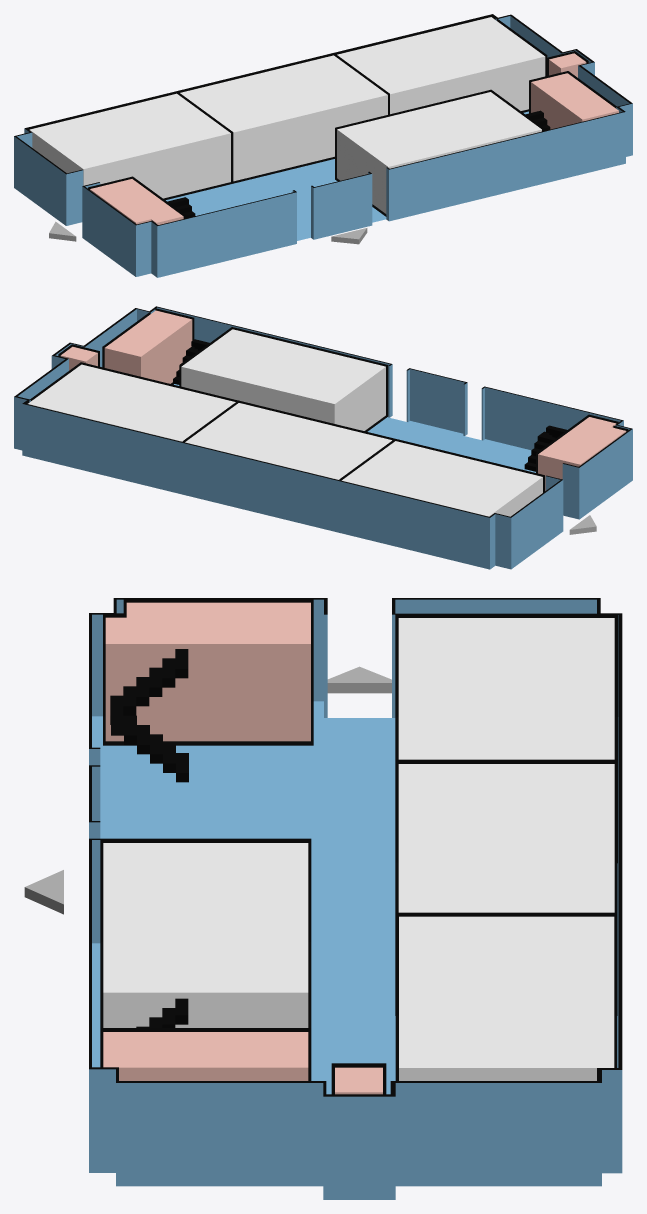
3 renders of one model, top to bottom at view 1: azimuth 30°, elevation 25°; view 2: azimuth 150°, elevation 25°; view 3: azimuth 270°, elevation 25°, orthographic. The views are drawn at different scales.
Parts seen in each view (by area): view 1: object, room_7_1_2, room_7_1_3, room_7_1_1, room_7_1_4, トイレ_7_1_1, トイレ_7_1_2, object_line.002, object_line.001, object_line.004, object_line.003, トイレ_7_1_3 (+1 smaller); view 2: object, room_7_1_4, room_7_1_3, room_7_1_1, room_7_1_2, トイレ_7_1_1, トイレ_7_1_2, object_line.004, object_line.001, object_line.002, object_line.003, 階段_7_1_1 (+2 smaller); view 3: object, room_7_1_4, room_7_1_1, room_7_1_2, room_7_1_3, トイレ_7_1_2, トイレ_7_1_1, 階段_7_1_1, object_line.006, object_line.004, object_line.002, object_line.003 (+5 smaller).
Part boxes in pixels (x1,y1,x2,y2): object: [14, 14, 632, 277]; room_7_1_2: [180, 55, 387, 181]; room_7_1_3: [29, 93, 230, 198]; room_7_1_1: [337, 17, 545, 114]; room_7_1_4: [337, 92, 541, 213]; トイレ_7_1_1: [531, 73, 618, 129]; トイレ_7_1_2: [90, 179, 183, 224]; object_line.002: [177, 53, 389, 183]; object_line.001: [27, 91, 233, 200]; object_line.004: [335, 89, 544, 216]; object_line.003: [334, 14, 547, 112]; トイレ_7_1_3: [549, 53, 586, 77]; object: [14, 306, 632, 569]; room_7_1_4: [181, 329, 385, 430]; room_7_1_3: [341, 441, 542, 516]; room_7_1_1: [28, 364, 235, 441]; room_7_1_2: [185, 403, 391, 479]; トイレ_7_1_1: [104, 310, 192, 383]; トイレ_7_1_2: [538, 417, 626, 490]; object_line.004: [179, 327, 388, 431]; object_line.001: [339, 439, 544, 492]; object_line.002: [182, 400, 395, 442]; object_line.003: [25, 362, 238, 403]; 階段_7_1_1: [524, 425, 566, 471]; object: [89, 598, 622, 1199]; room_7_1_4: [103, 843, 308, 1027]; room_7_1_1: [399, 916, 614, 1080]; room_7_1_2: [398, 764, 614, 912]; room_7_1_3: [398, 618, 614, 759]; トイレ_7_1_2: [105, 602, 310, 741]; トイレ_7_1_1: [103, 1032, 308, 1080]; 階段_7_1_1: [110, 649, 188, 782]; object_line.006: [103, 598, 313, 745]; object_line.004: [100, 838, 311, 1027]; object_line.002: [395, 759, 617, 1015]; object_line.003: [395, 912, 617, 1080].
Size of the model in its own units: 2.1 by 0.1966 by 1.01.
